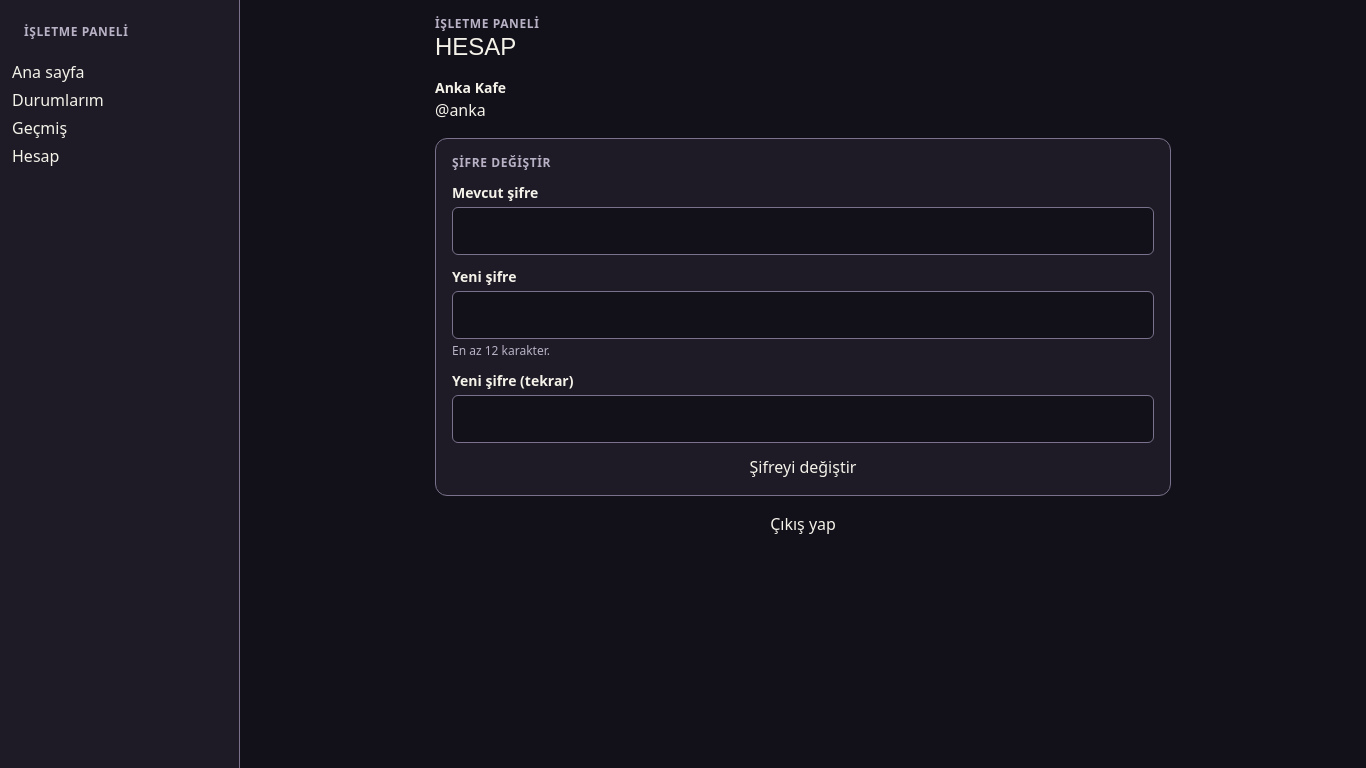
BusinessAccountPage › kısa yeni şifrede hata verir ve ağ çağrısı yapmaz
Type "eski-sifre-123" into the password field labelled "Mevcut şifre".
click(803, 231); type("eski-sifre-123")  # box [452, 207, 1154, 255]
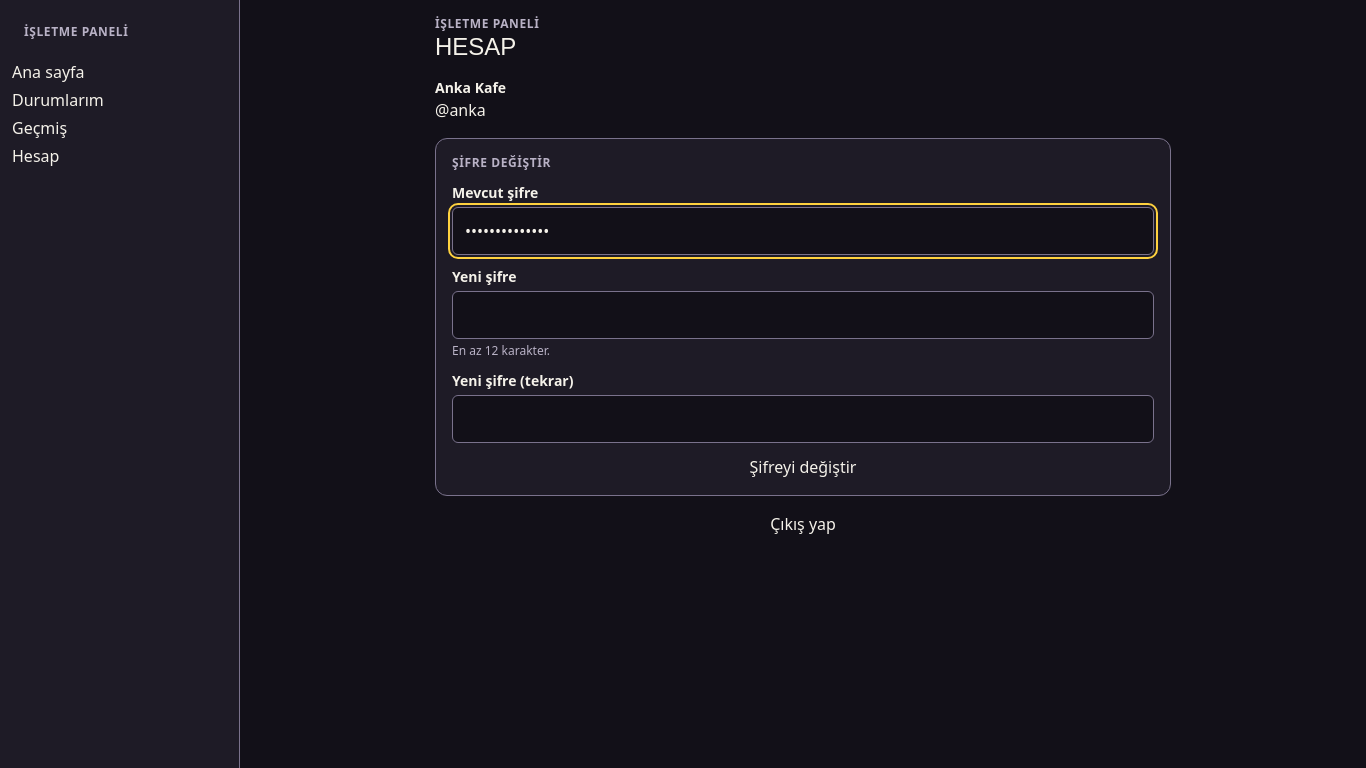
Type "kısa" into the password field labelled "Yeni şifre".
click(803, 315); type("kısa")  # box [452, 291, 1154, 339]
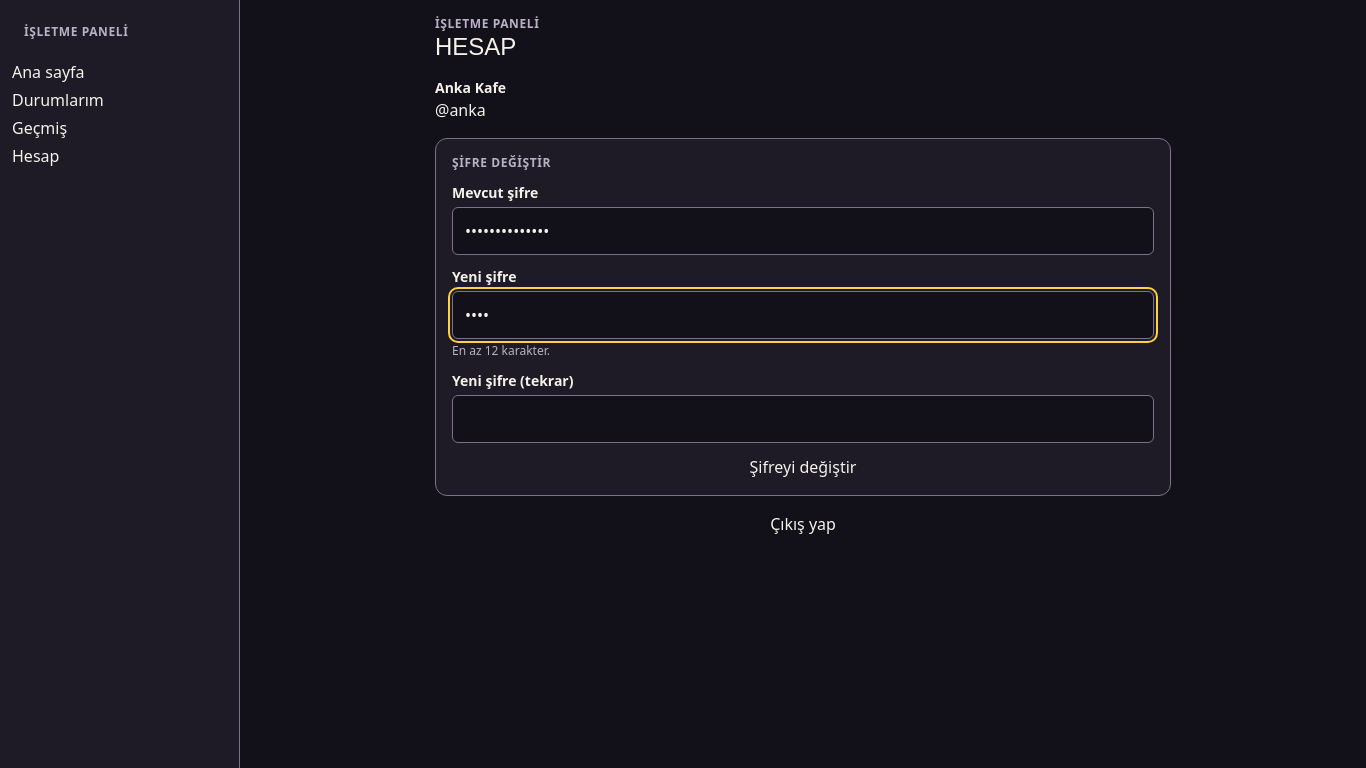
Type "kısa" into the password field labelled "Yeni şifre (tekrar)".
click(803, 419); type("kısa")  # box [452, 395, 1154, 443]
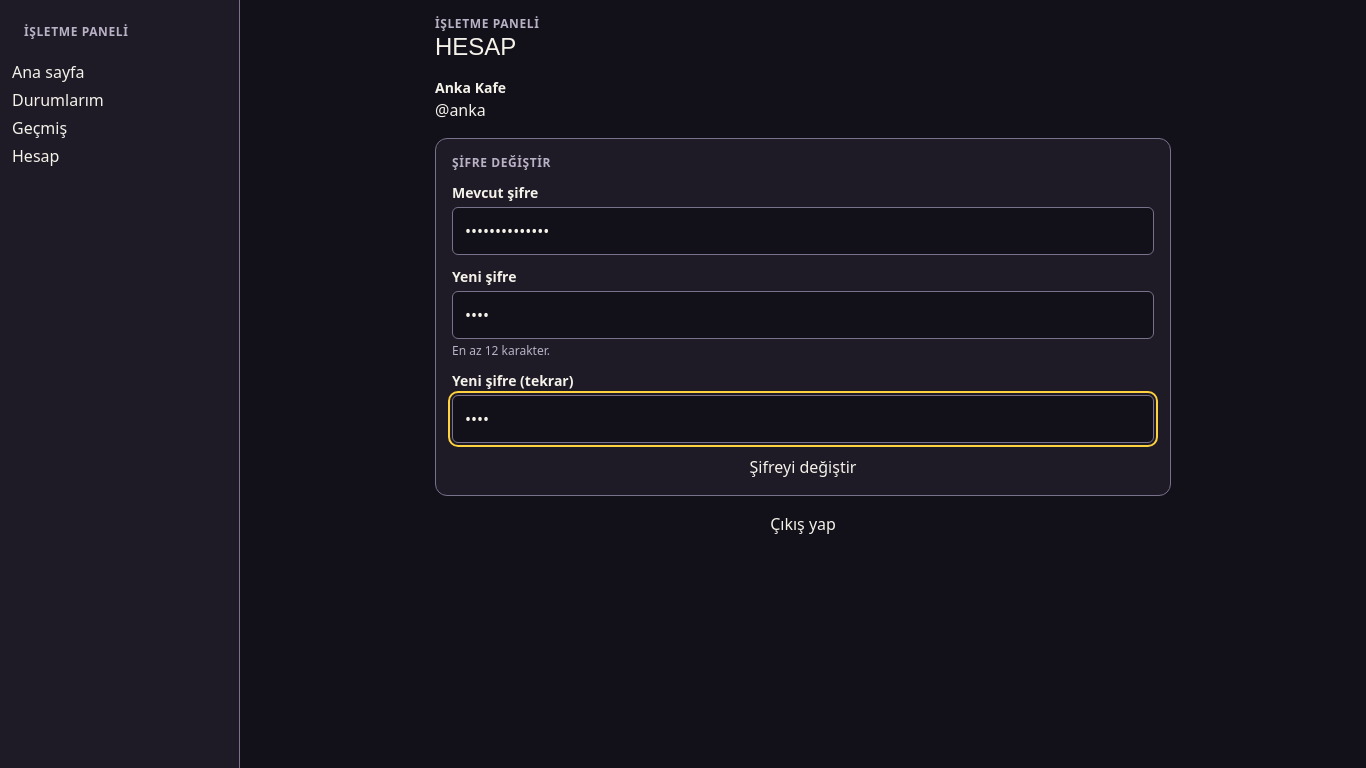
Click the button "Şifreyi değiştir".
click(803, 467)  # box [452, 455, 1154, 479]
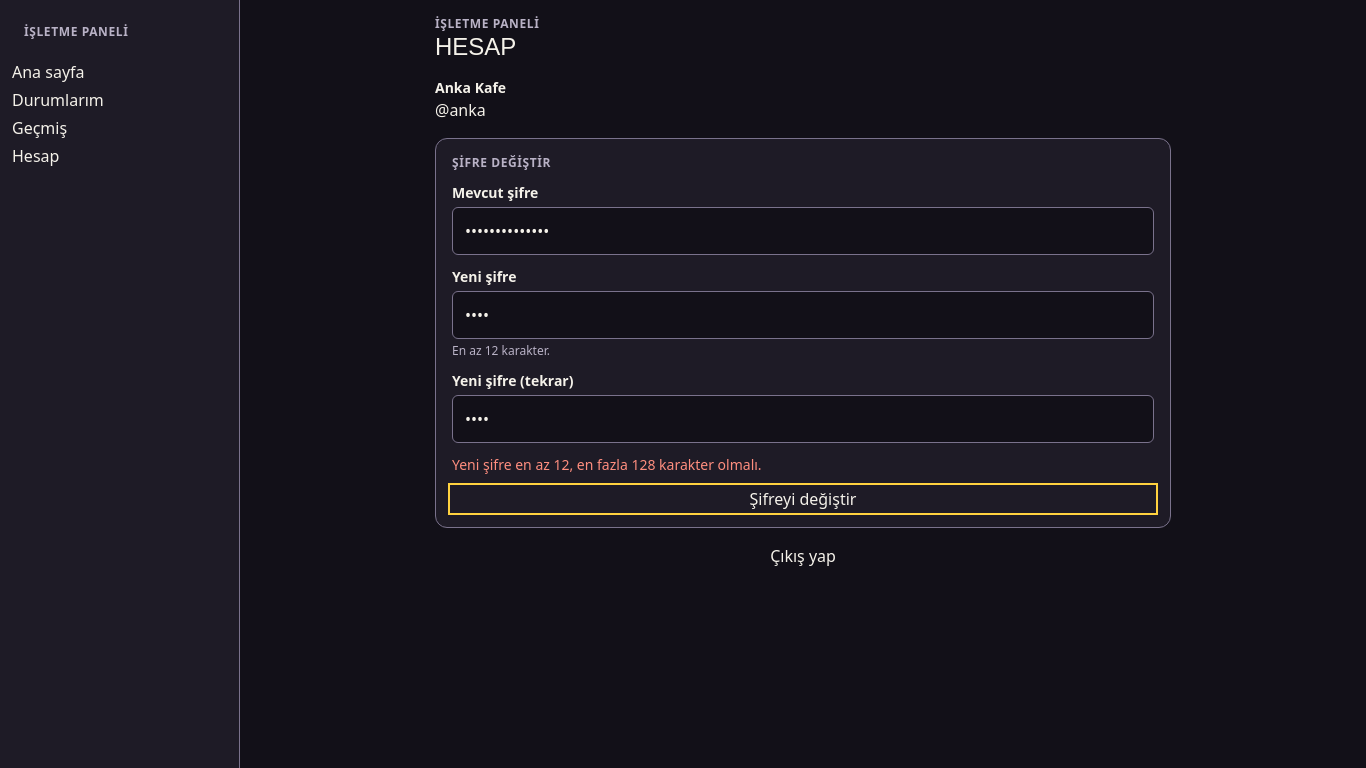
expect the message reads "Yeni şifre en az 12, en fazla 128 karakter olmalı.": met, box [452, 455, 762, 474]
